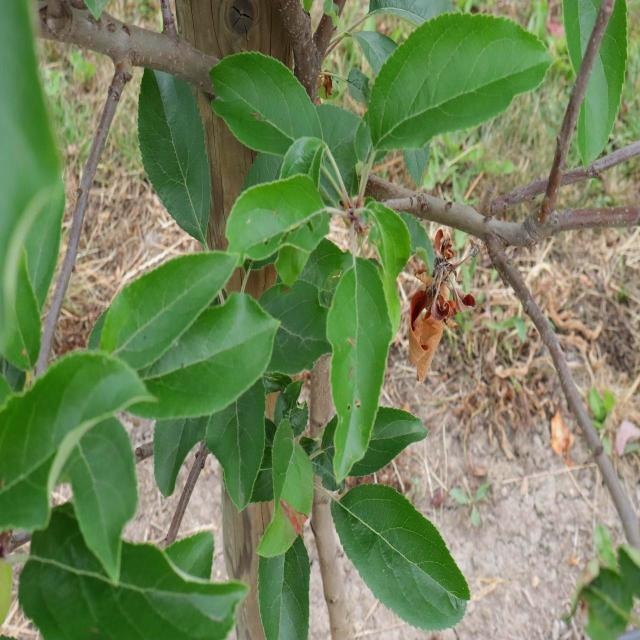-FireBlight-: (400, 225, 470, 377)
